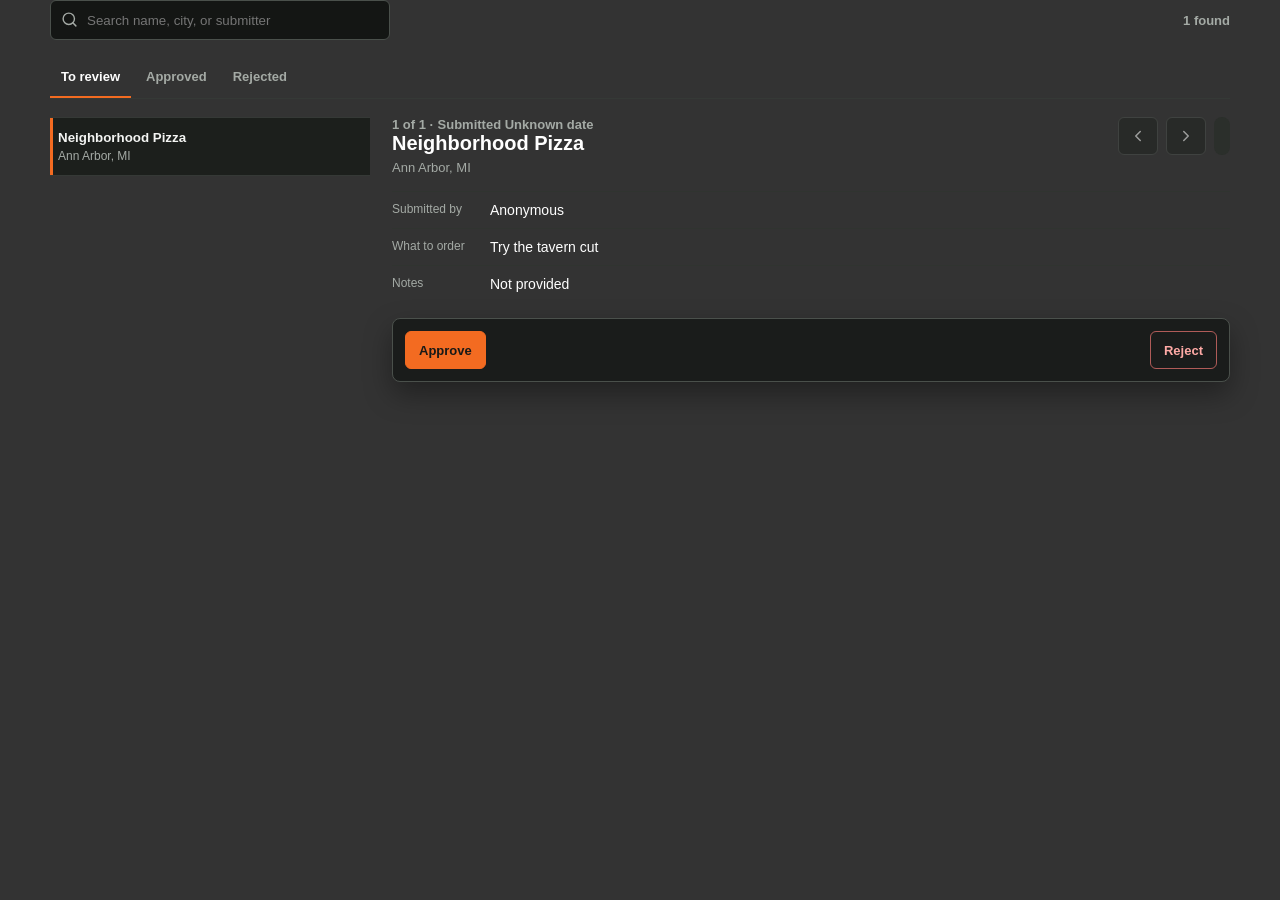
Test: AdminSuggestionsPanel › uses an accessible rejection dialog with an optional reason
Expected: the heading "Neighborhood Pizza" is shown, [392,132,594,155]
Click the button "Reject" at {"x": 1184, "y": 350}, box [1150,331,1217,369]
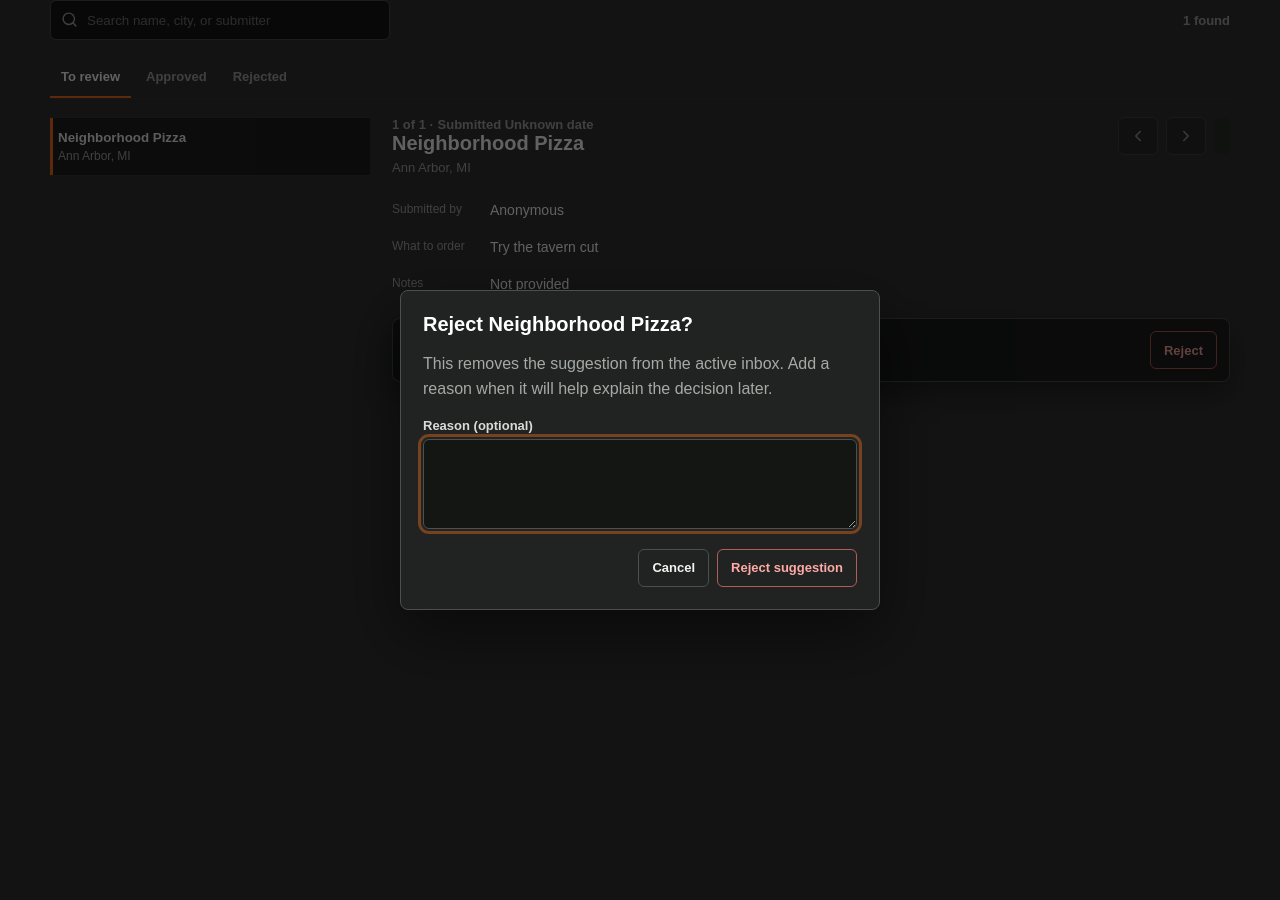
Result: the dialog "Reject Neighborhood Pizza" is shown at [400,290,880,610]
Type "Not a pizza place" into the text box at {"x": 640, "y": 484}, box [423,439,857,529]
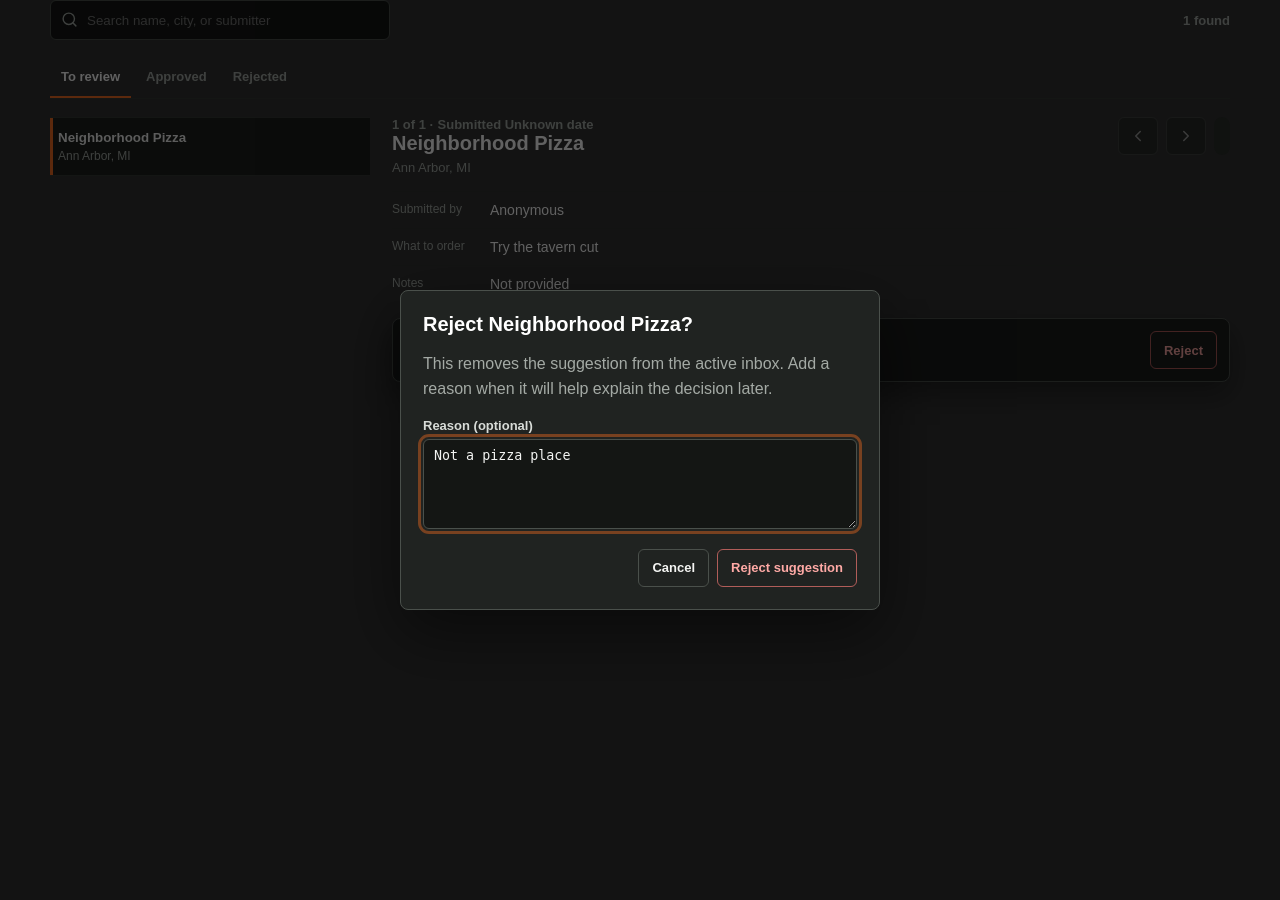
Click the button "Reject suggestion" at {"x": 787, "y": 568}, box [717,549,857,587]
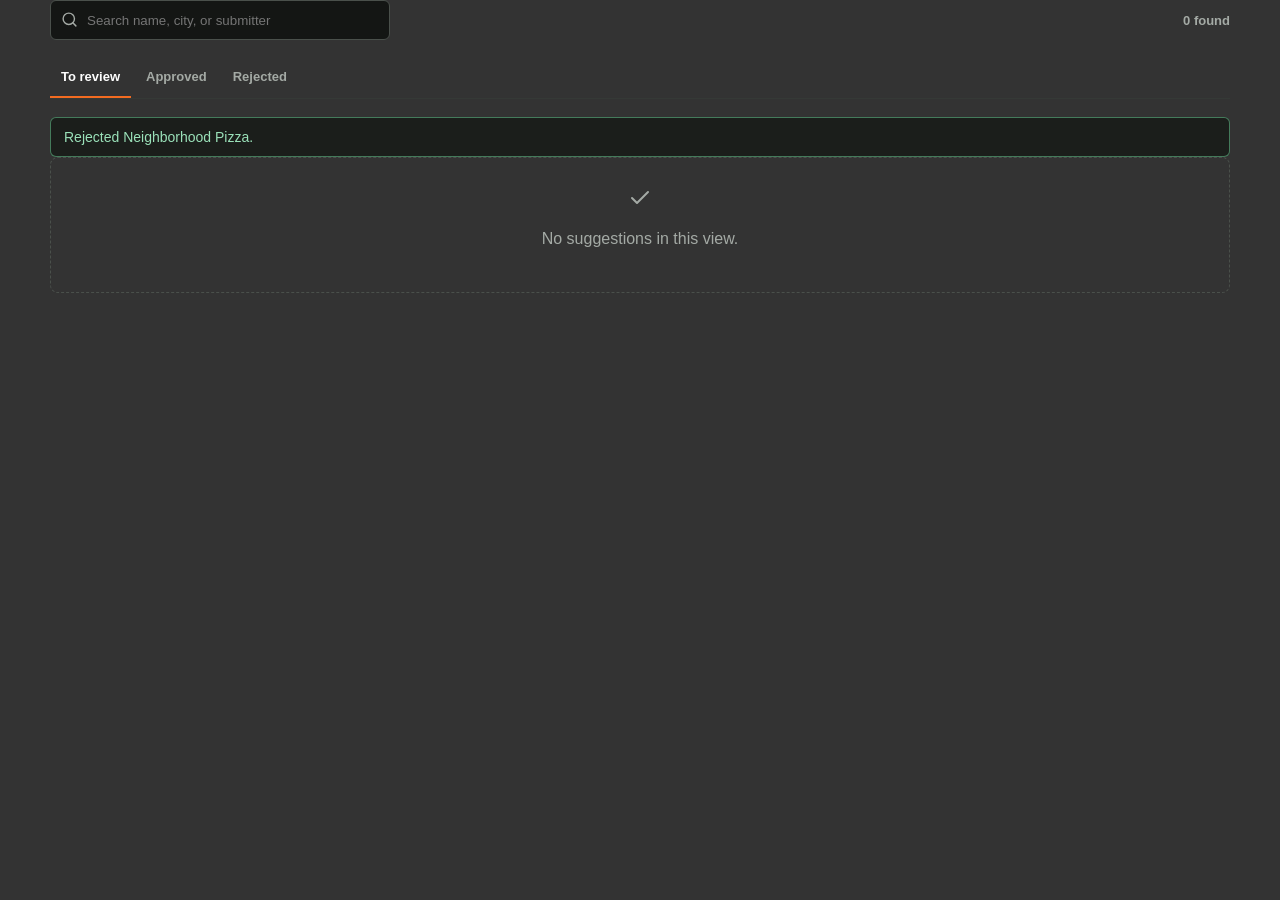
Result: the heading "Reject Neighborhood Pizza" is gone
Result: the text "No suggestions in this view." is shown at [542,230,738,247]
